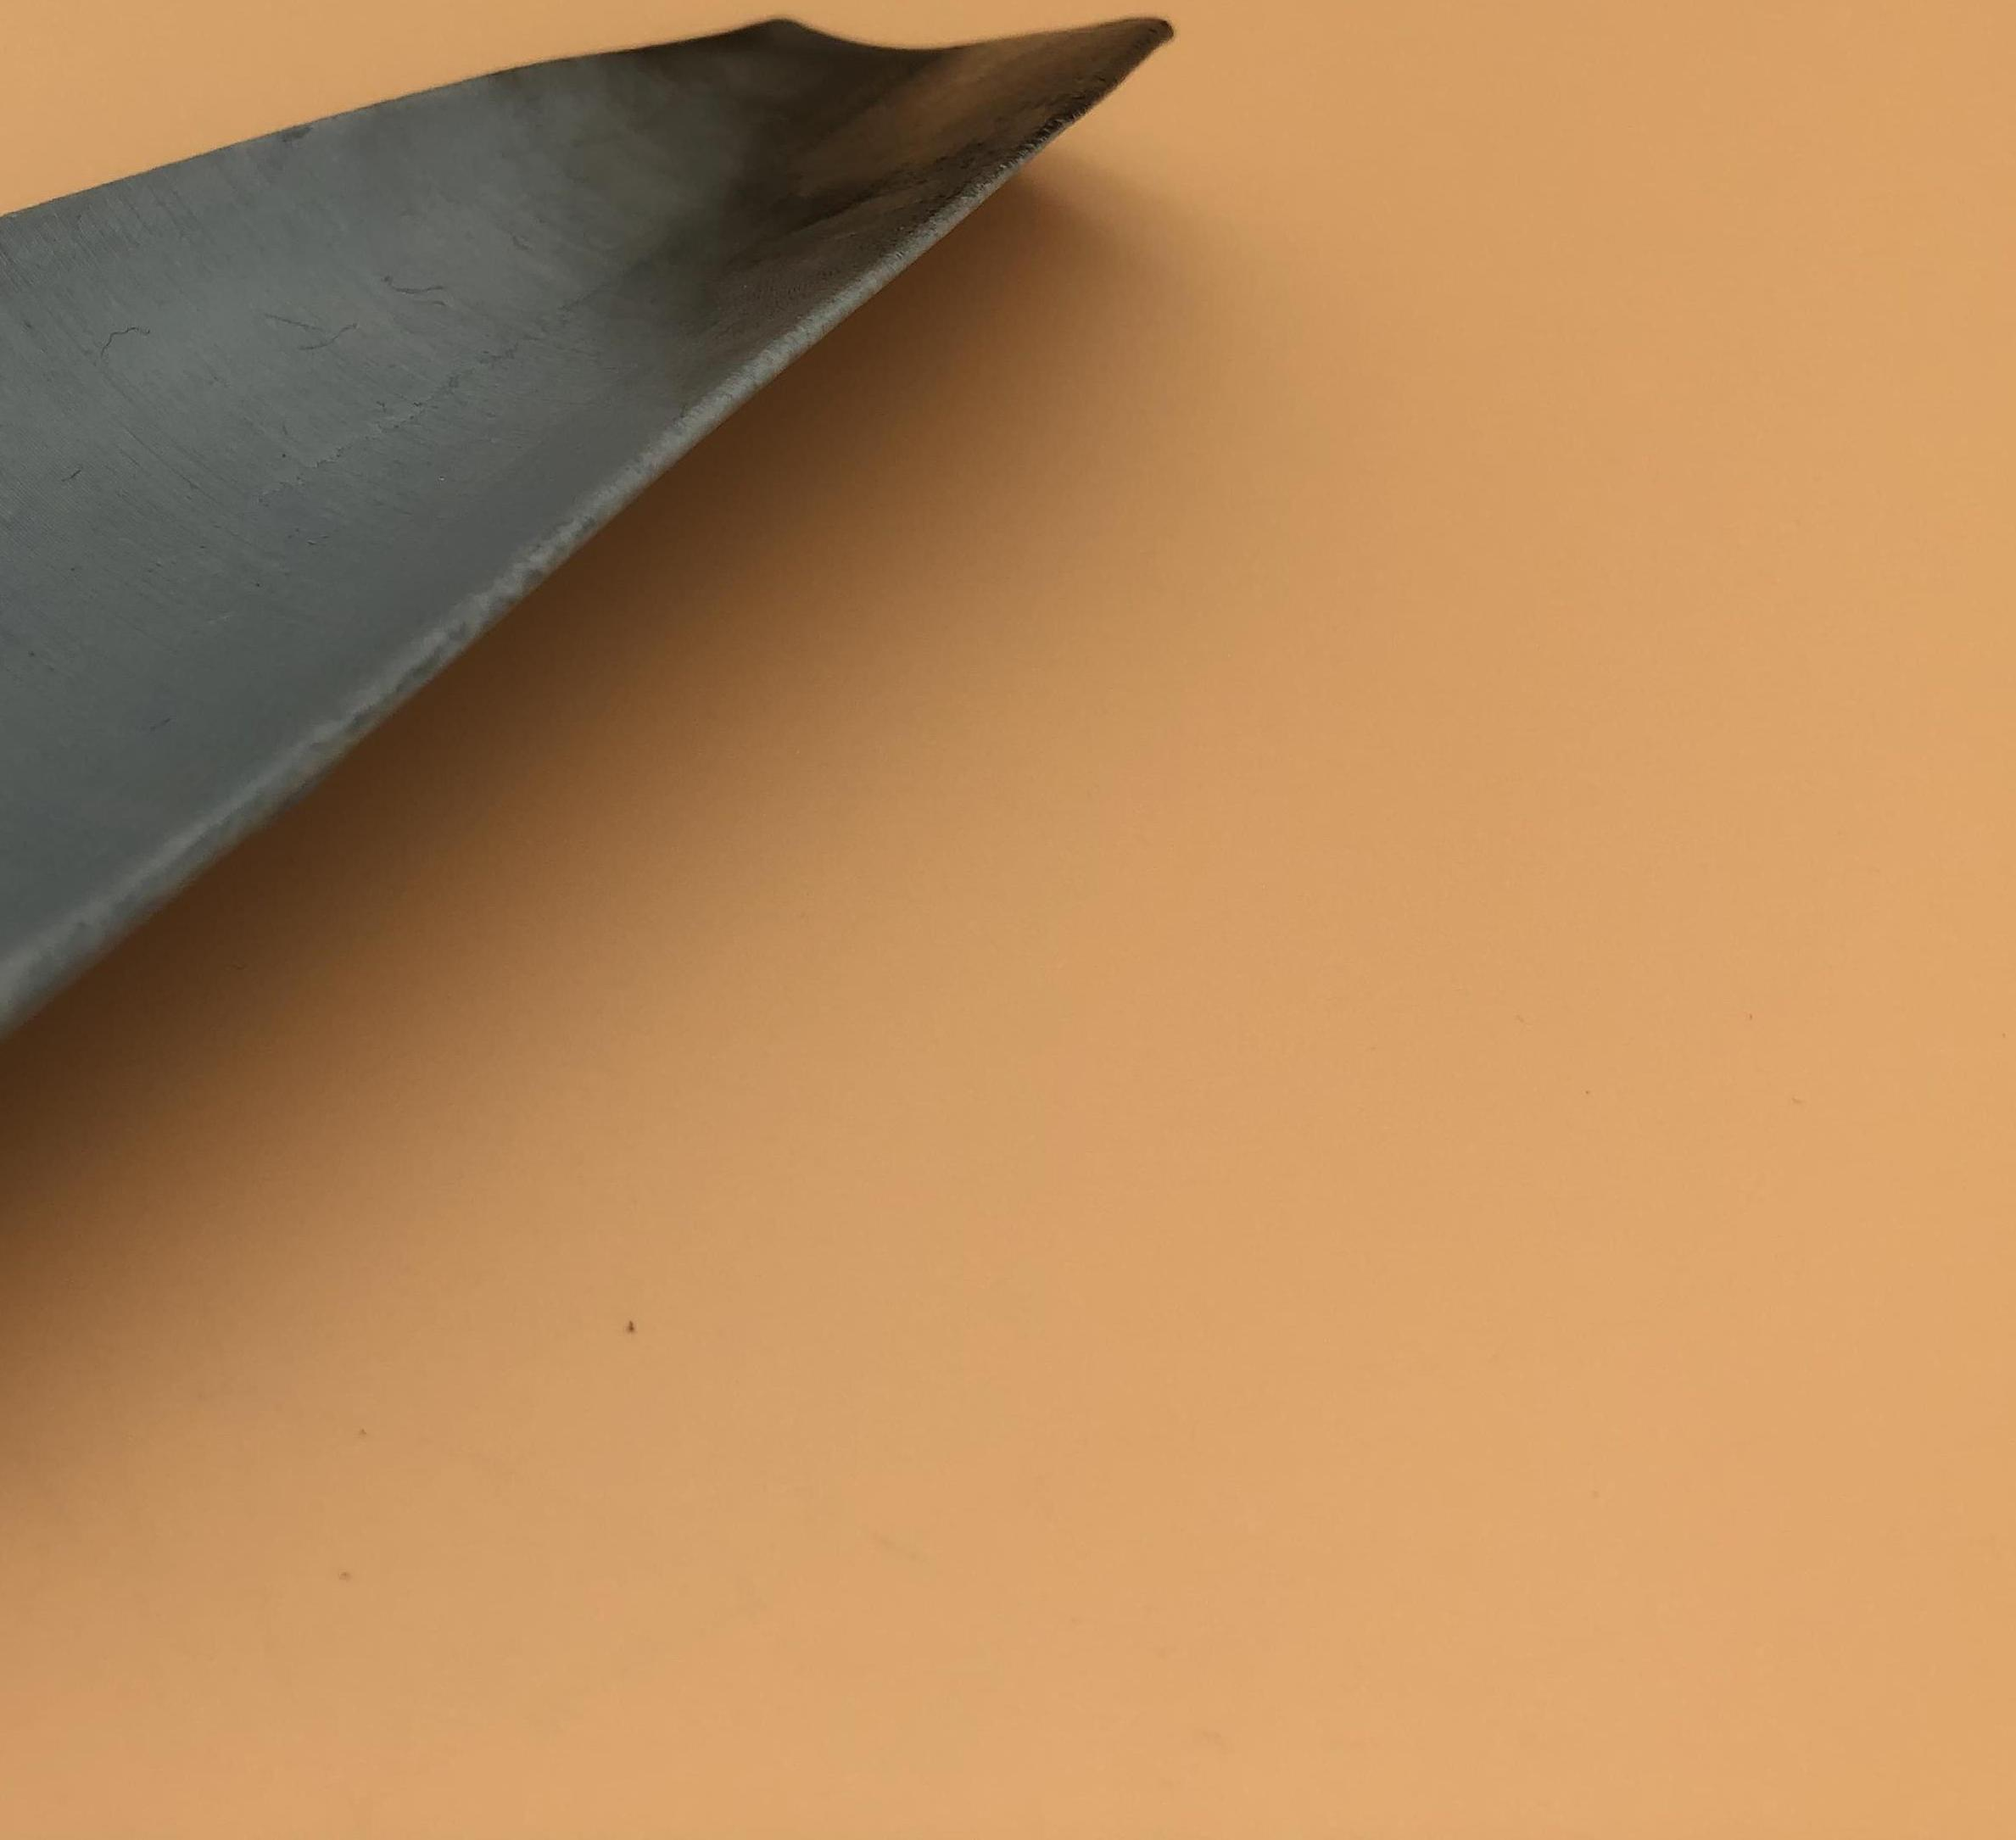ablation: (743, 26, 1010, 265)
